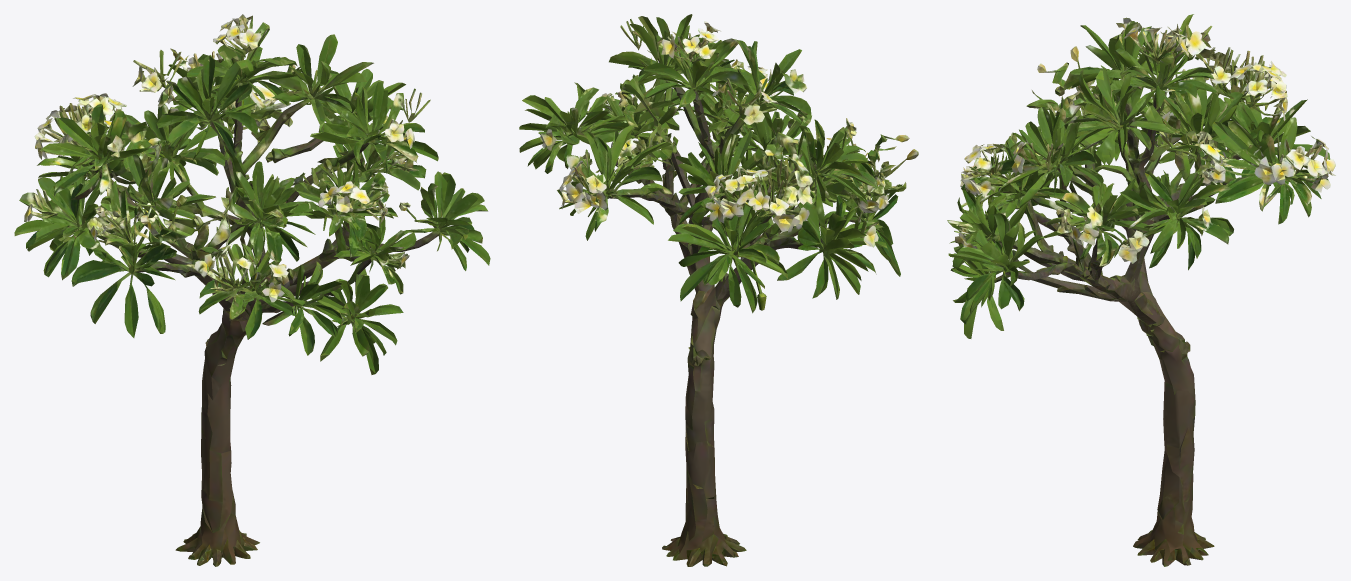
The model's file is lib_tp_dai.near.glb.
3 renders of one model, left to right at view 1: azimuth 30°, elevation 25°; view 2: azimuth 150°, elevation 25°; view 3: azimuth 270°, elevation 25°, orthographic. The views are drawn at different scales.
Visible parts, largest first — view 1: output_unwrapped; view 2: output_unwrapped; view 3: output_unwrapped.
Part boxes in pixels (x1,y1,x2,y2): output_unwrapped: (14, 14, 490, 566); output_unwrapped: (519, 14, 918, 566); output_unwrapped: (947, 14, 1335, 566).
Bounding box in the file's own units: 1.41 × 1.9 × 1.27.
1 material, 1 textured.
